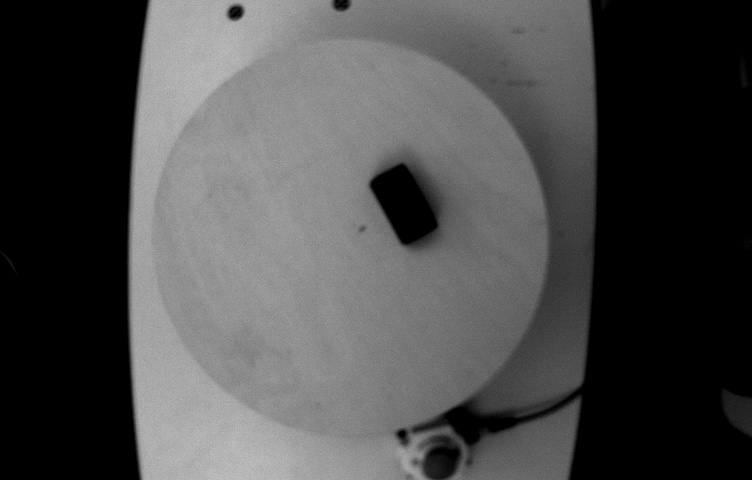cuboid: (364, 157, 446, 251)
